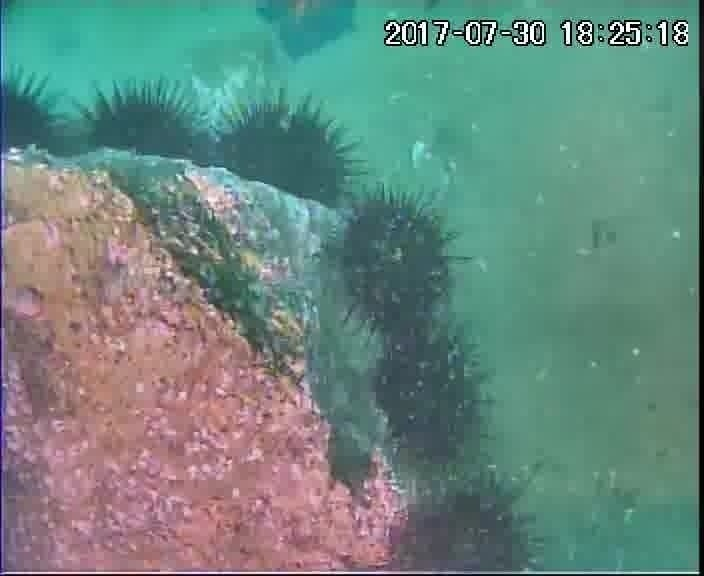echinus: (329, 189, 461, 338), (369, 325, 495, 471), (210, 95, 362, 214), (383, 477, 542, 571), (75, 78, 205, 163), (0, 65, 74, 163)
starfish: (254, 1, 363, 64)
